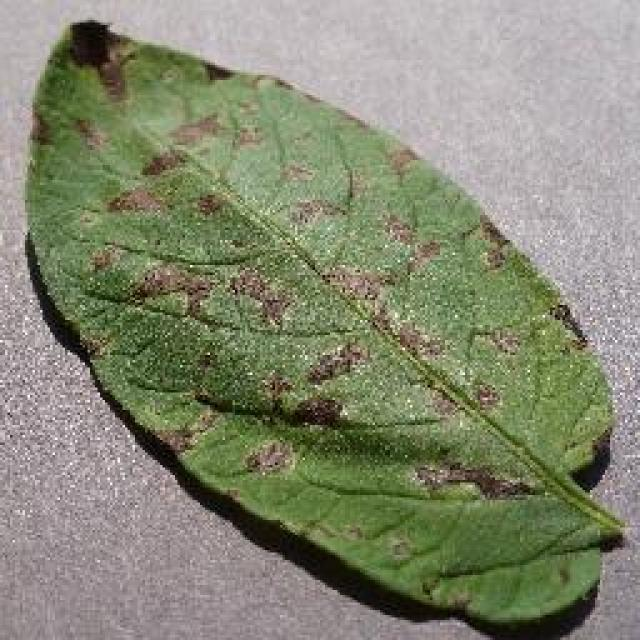early_blight: (20, 15, 628, 637)
